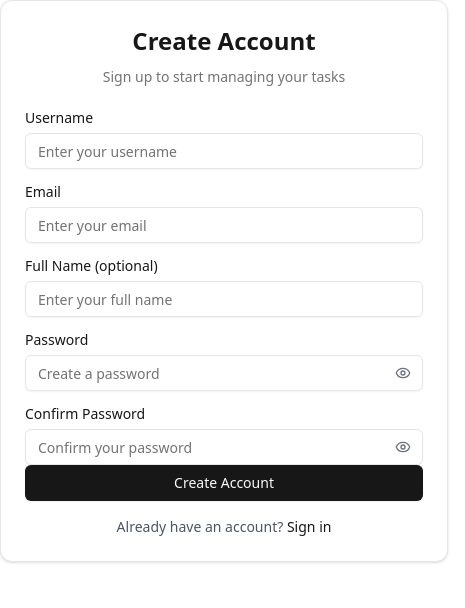
Scenario: RegisterForm › shows a validation error and does not submit when the passwords do not match
The image size is (465, 608).
Type "newuser" into the field labelled "Username".
click(224, 151); type("newuser")  # box [25,133,423,169]
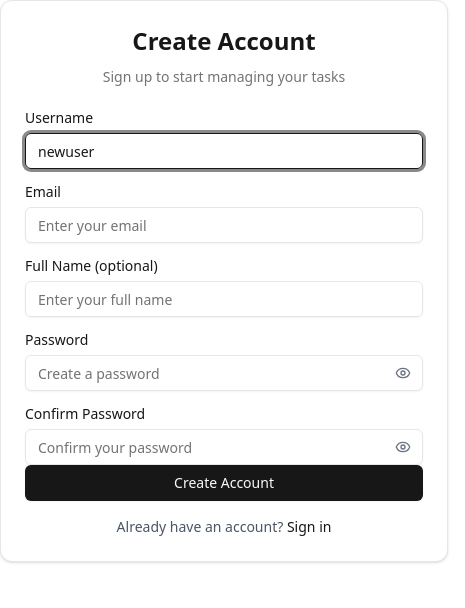
Type "newuser@example.com" into the field labelled "Email".
click(224, 225); type("newuser@example.com")  # box [25,207,423,243]
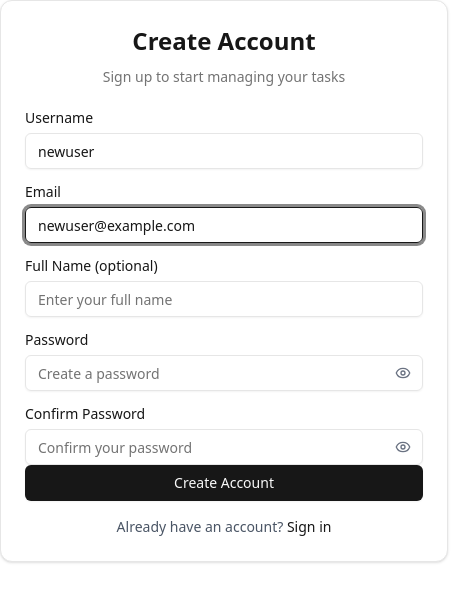
Type "Secret123" into the password field labelled "Password".
click(224, 373); type("Secret123")  # box [25,355,423,391]
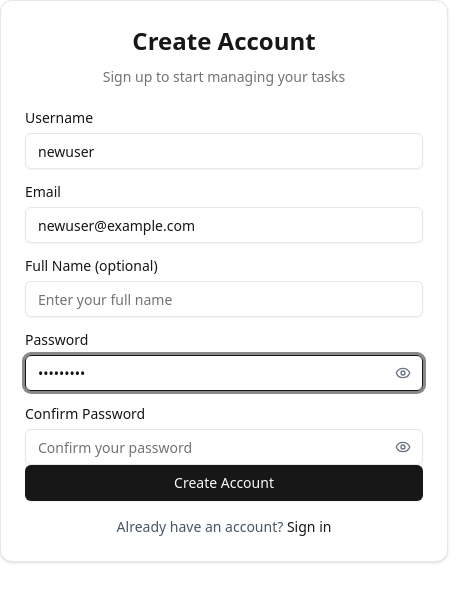
Type "Different123" into the password field labelled "Confirm Password".
click(224, 447); type("Different123")  # box [25,429,423,465]
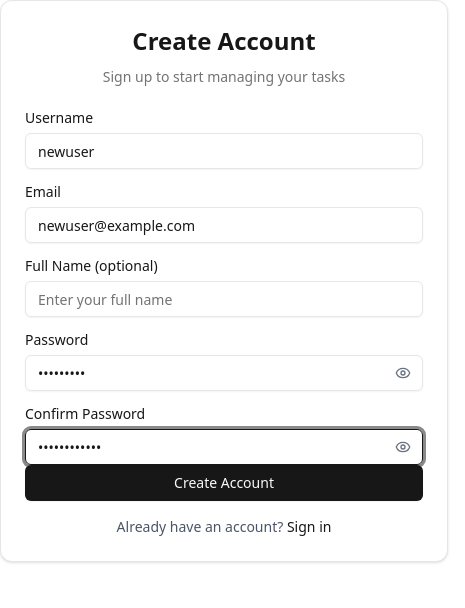
Click the button "Create Account".
click(224, 483)  # box [25,465,423,501]
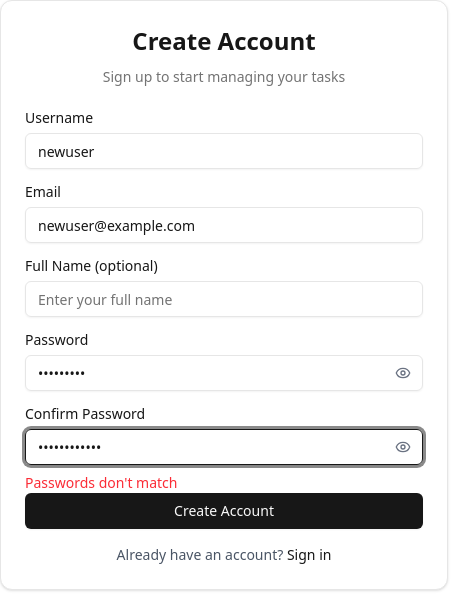
Result: the text "Passwords don't match" is shown at [25,473,178,492]
